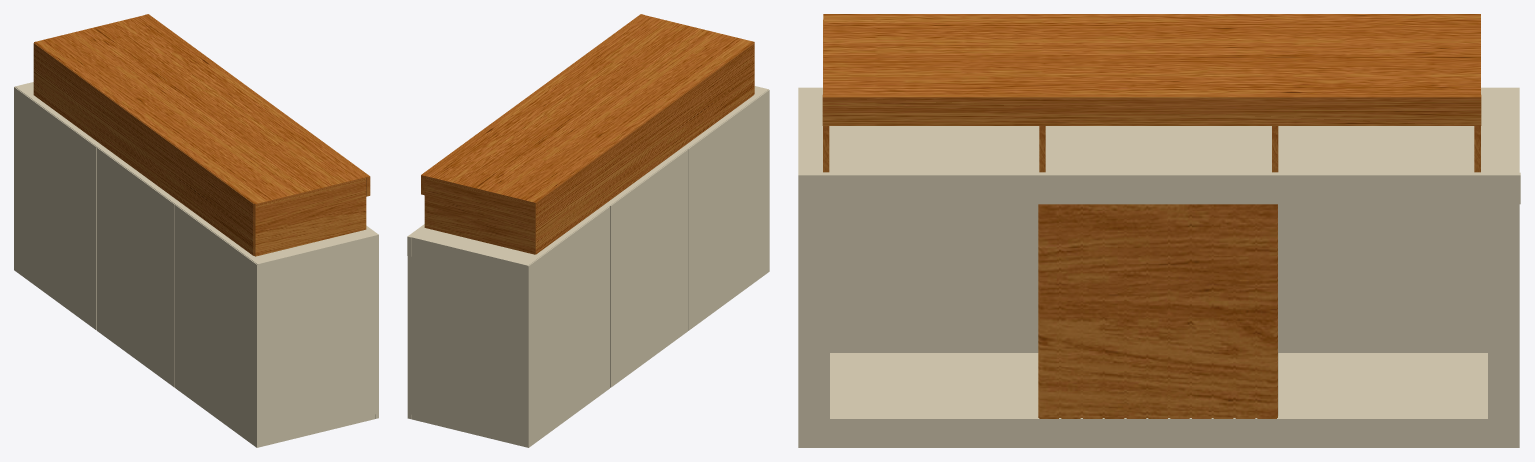
Rendered from Rack 136 x 74.glb.
3 renders of one model, left to right at view 1: azimuth 30°, elevation 25°; view 2: azimuth 150°, elevation 25°; view 3: azimuth 270°, elevation 25°, orthographic. The views are drawn at different scales.
Visible parts, largest first — view 1: Cube.020; view 2: Cube.020; view 3: Cube.020.
Boxes of the visible parts, <box> form: Cube.020: <box>14,14,378,447</box>; Cube.020: <box>407,14,769,447</box>; Cube.020: <box>798,14,1520,447</box>.
Size of the model in its own units: 0.3945 by 0.729 by 1.36.
Materials: 2 (2 with a texture image).
